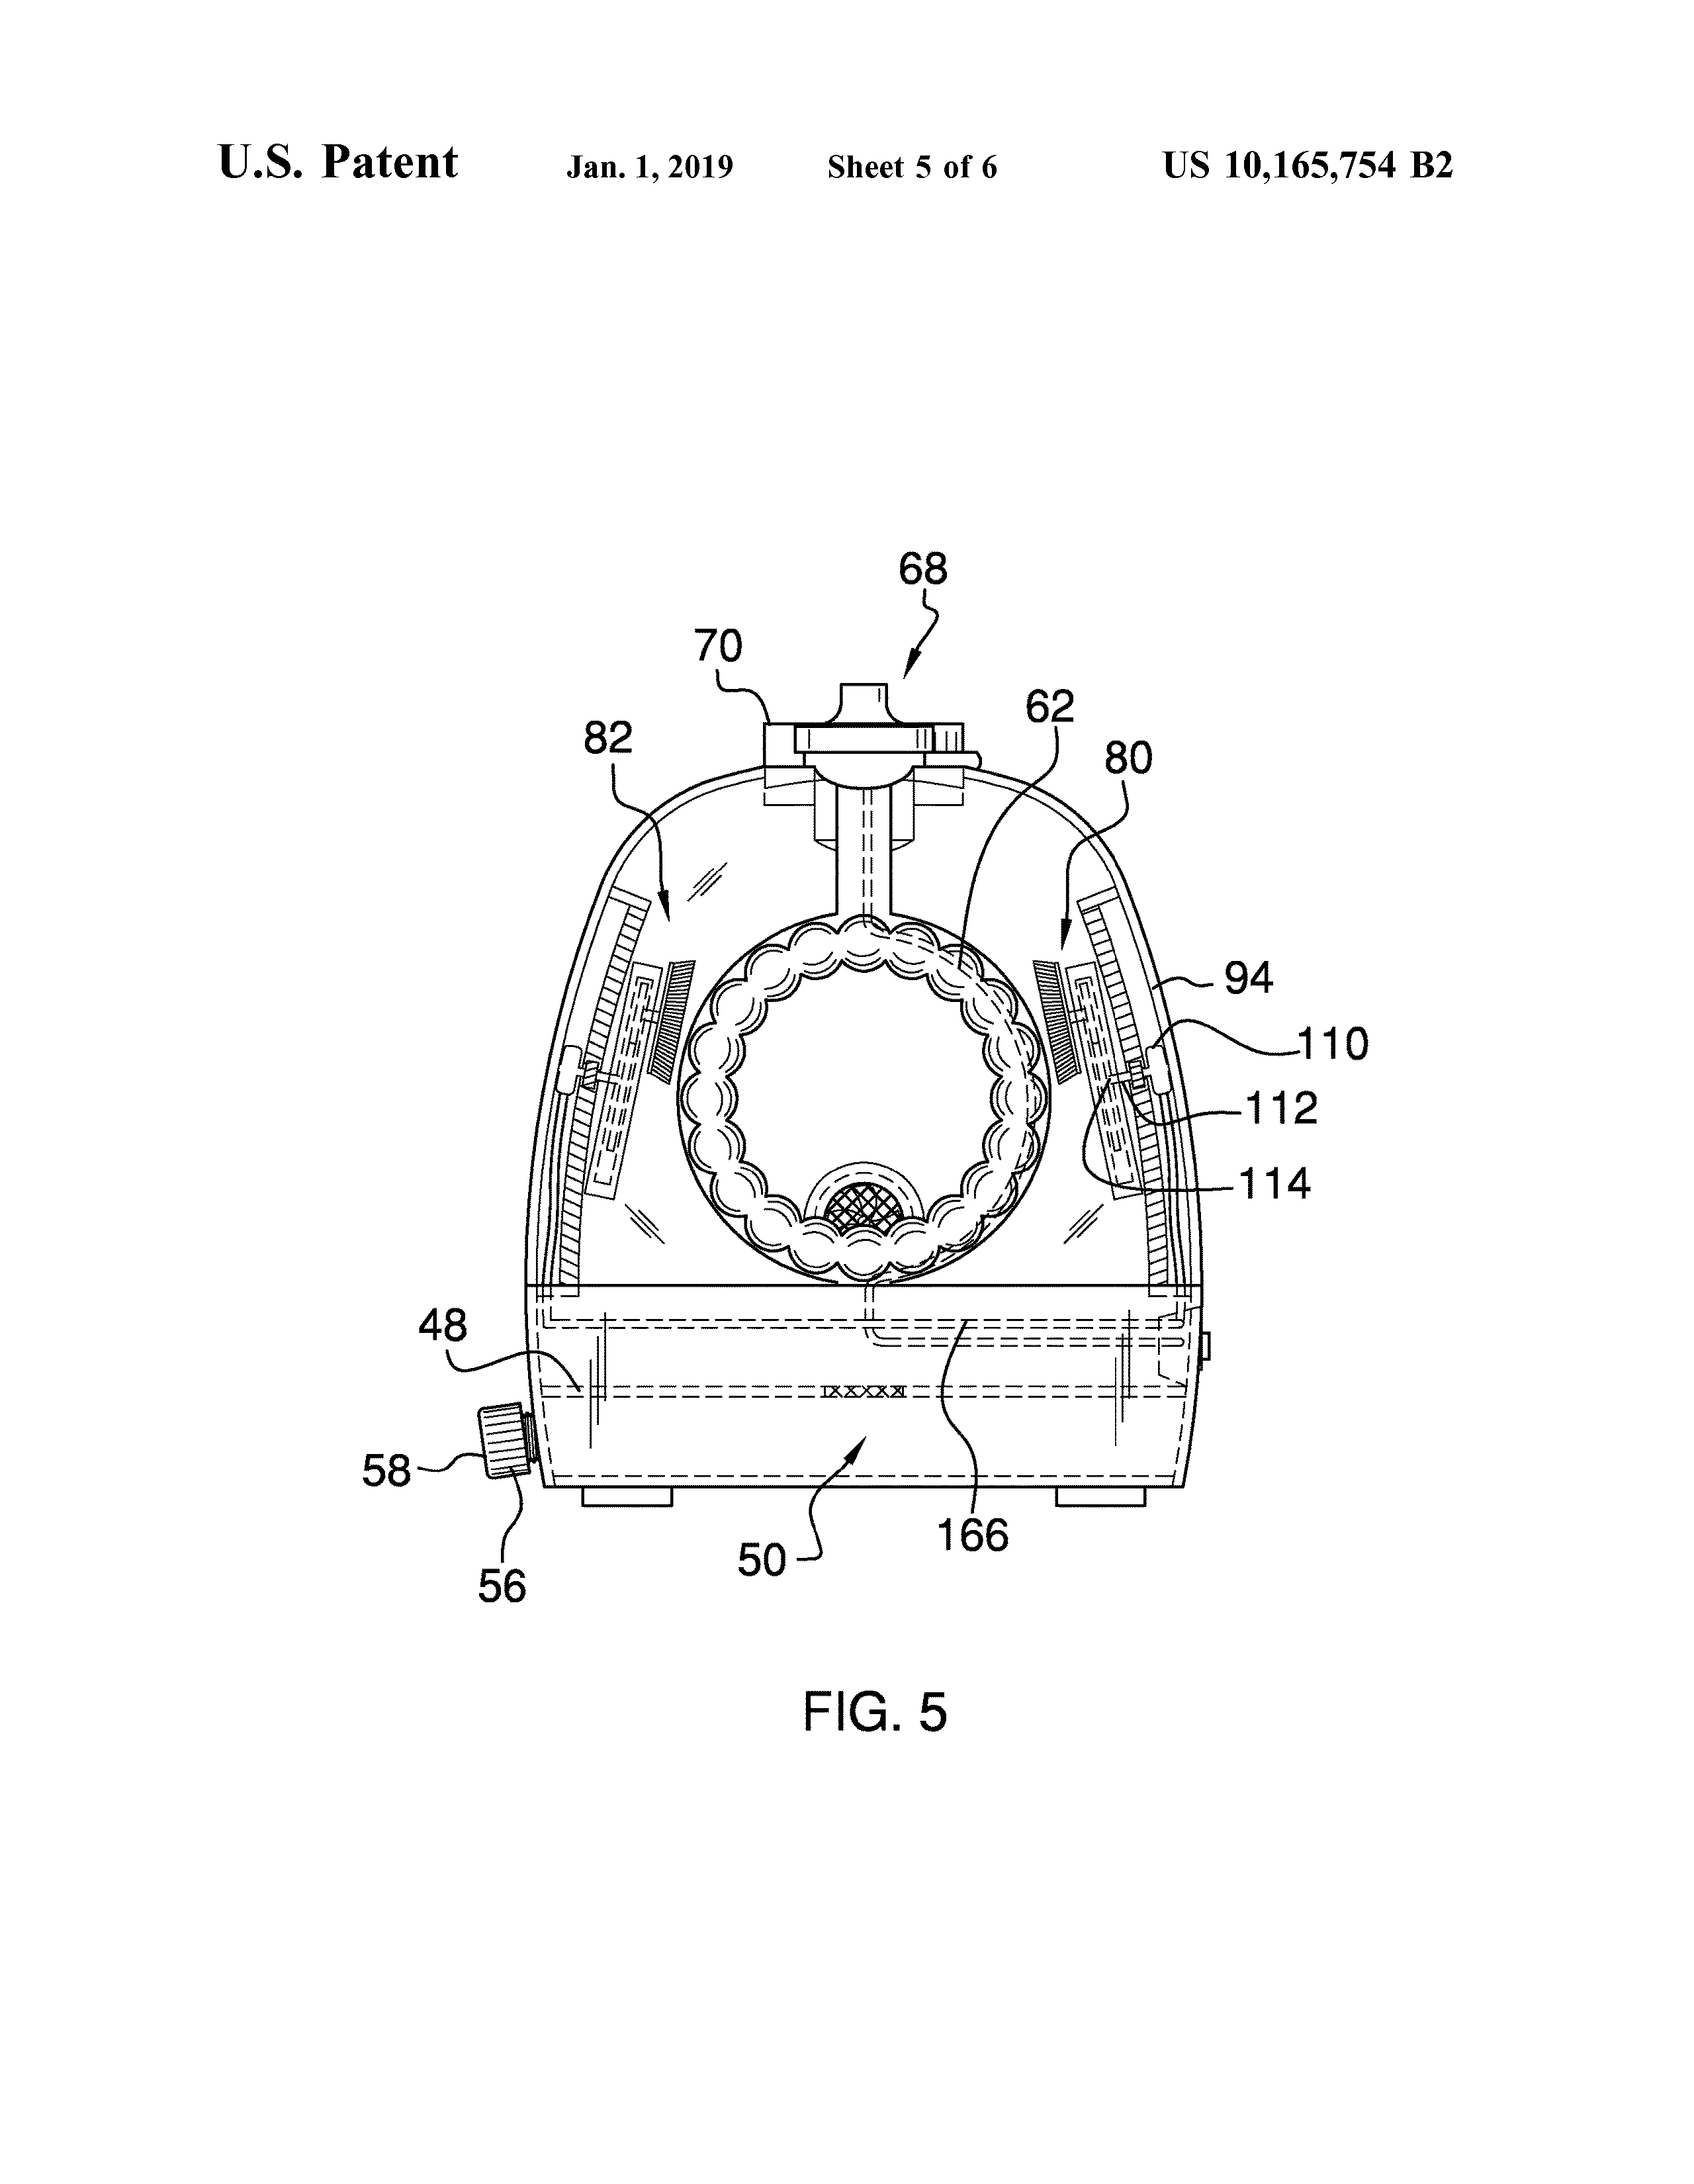patent image: (355, 488, 1419, 1768)
